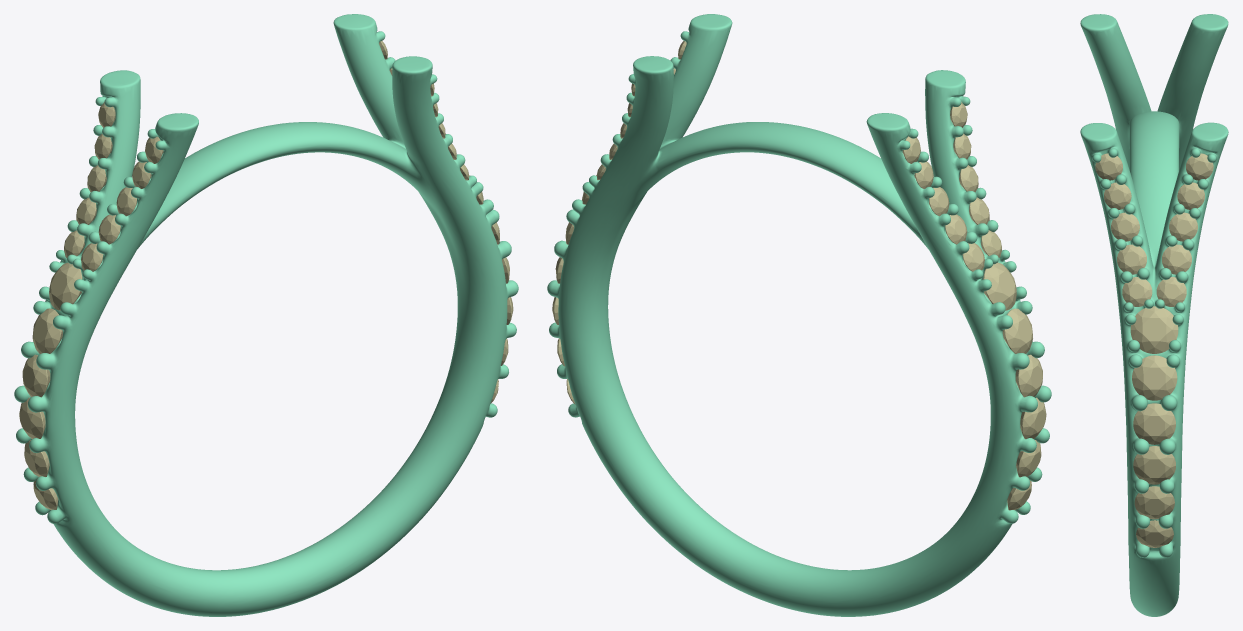
3 renders of one model, left to right at view 1: azimuth 30°, elevation 25°; view 2: azimuth 150°, elevation 25°; view 3: azimuth 270°, elevation 25°, orthographic. The views are drawn at different scales.
Visible parts, largest first — view 1: Metal02, Diamond_Gem.018, Diamond_Gem.016, Diamond_Gem.017, Diamond_Gem.019; view 2: Metal02, Diamond_Gem.018, Diamond_Gem.016, Diamond_Gem.017, Diamond_Gem.019; view 3: Metal02, Diamond_Gem.013, Diamond_Gem.015, Diamond_Gem.014, Diamond_Gem.012, Diamond_Gem.011, Diamond_Gem.010, Diamond_Gem.003, Diamond_Gem.006, Diamond_Gem.005, Diamond_Gem.004, Diamond_Gem.007 (+5 smaller).
Boxes of the visible parts, bbox=[...] form: Metal02: bbox=[14, 14, 518, 616]; Diamond_Gem.018: bbox=[49, 262, 82, 310]; Diamond_Gem.016: bbox=[32, 308, 62, 353]; Diamond_Gem.017: bbox=[22, 354, 50, 397]; Diamond_Gem.019: bbox=[19, 397, 45, 438]; Metal02: bbox=[547, 14, 1051, 616]; Diamond_Gem.018: bbox=[983, 262, 1016, 310]; Diamond_Gem.016: bbox=[1002, 308, 1032, 353]; Diamond_Gem.017: bbox=[1015, 354, 1042, 397]; Diamond_Gem.019: bbox=[1020, 397, 1046, 439]; Metal02: bbox=[1080, 14, 1228, 616]; Diamond_Gem.013: bbox=[1130, 306, 1178, 353]; Diamond_Gem.015: bbox=[1132, 355, 1177, 400]; Diamond_Gem.014: bbox=[1133, 403, 1175, 444]; Diamond_Gem.012: bbox=[1133, 446, 1175, 484]; Diamond_Gem.011: bbox=[1134, 486, 1174, 519]; Diamond_Gem.010: bbox=[1136, 520, 1173, 547]; Diamond_Gem.003: bbox=[1117, 244, 1146, 274]; Diamond_Gem.006: bbox=[1162, 244, 1191, 274]; Diamond_Gem.005: bbox=[1156, 277, 1186, 306]; Diamond_Gem.004: bbox=[1122, 277, 1152, 306]; Diamond_Gem.007: bbox=[1169, 212, 1197, 241].
Bounding box in the file's own units: 21.51 × 22.64 × 5.88.
